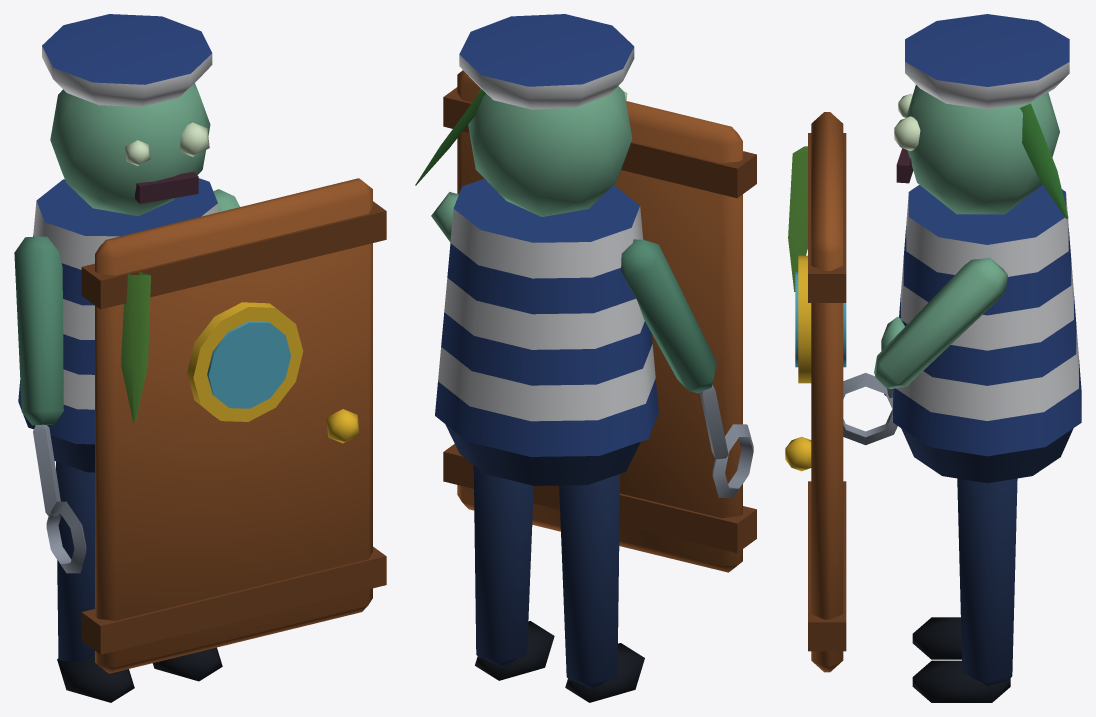
Rendered from e_untote_schildmatrose.glb.
3 views of the same model, side by side, from view 1: azimuth 30°, elevation 25°; view 2: azimuth 150°, elevation 25°; view 3: azimuth 270°, elevation 25° (orthographic). The views are drawn at different scales.
Visible parts, largest first — view 1: body; view 2: body; view 3: body.
Boxes of the visible parts, x1,y1,x2,y2 form: body: (14,14,386,702); body: (415,14,756,702); body: (785,14,1081,702).
Bounding box in the file's own units: 1.11 × 2.19 × 0.9255.
